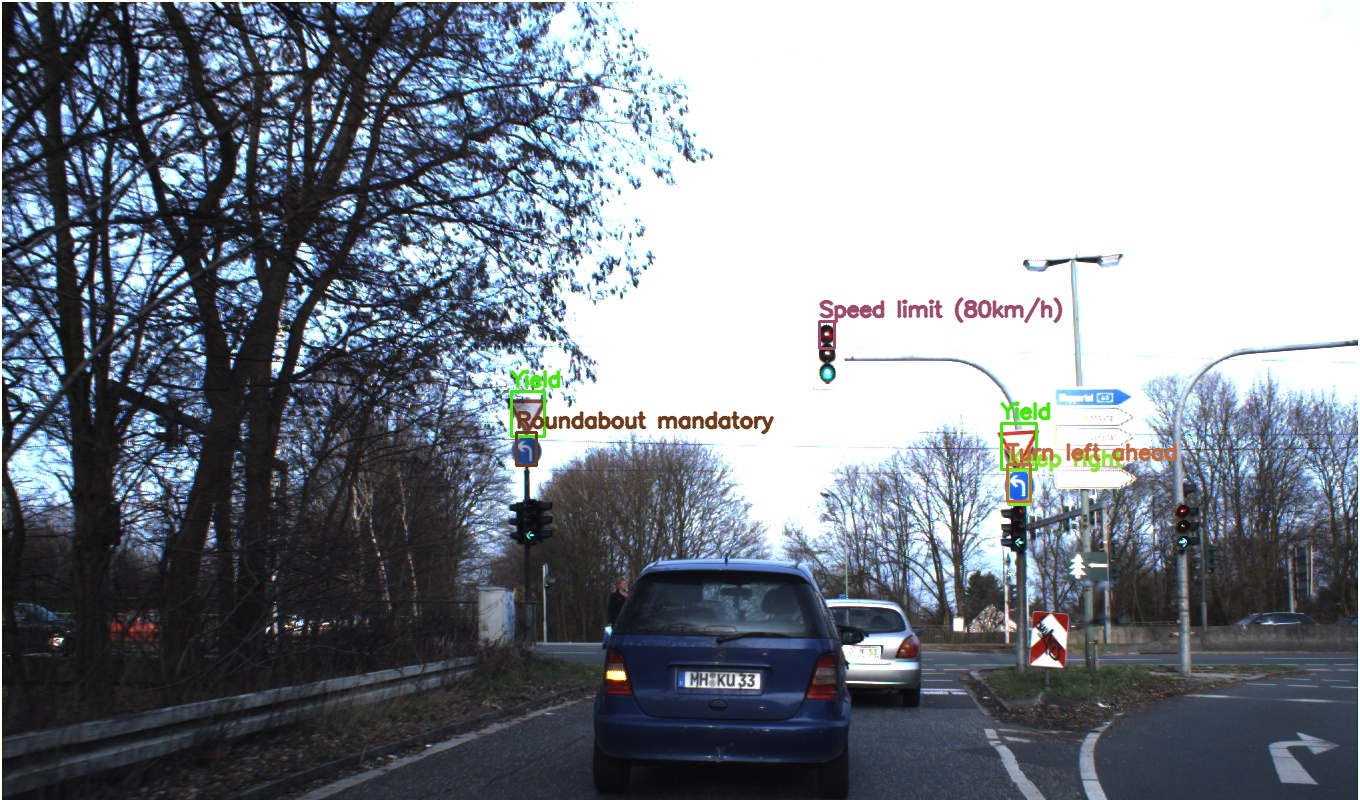Speed limit (50km/h): (967, 150, 1076, 257)
